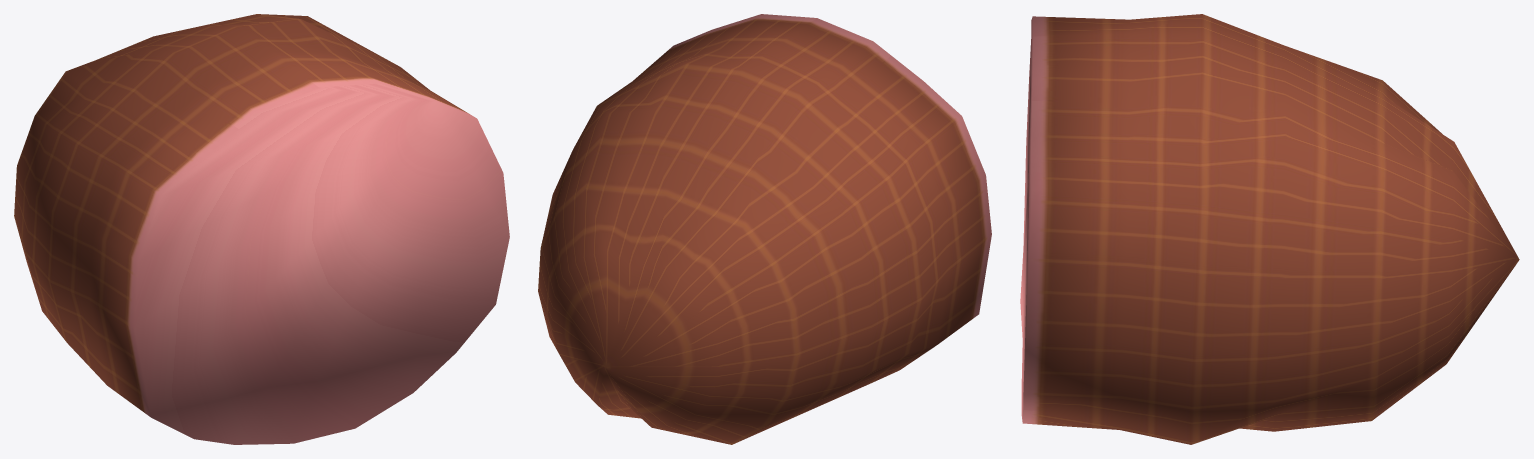
The model's file is Ham.FBX.
3 renders of one model, left to right at view 1: azimuth 30°, elevation 25°; view 2: azimuth 150°, elevation 25°; view 3: azimuth 270°, elevation 25°, orthographic. The views are drawn at different scales.
Visible parts, largest first — view 1: Sphere001; view 2: Sphere001; view 3: Sphere001.
Boxes of the visible parts, x1,y1,x2,y2 form: Sphere001: (14,14,509,444); Sphere001: (538,14,991,444); Sphere001: (1020,14,1519,444).
Size of the model in its own units: 24.27 by 21.52 by 25.98.
